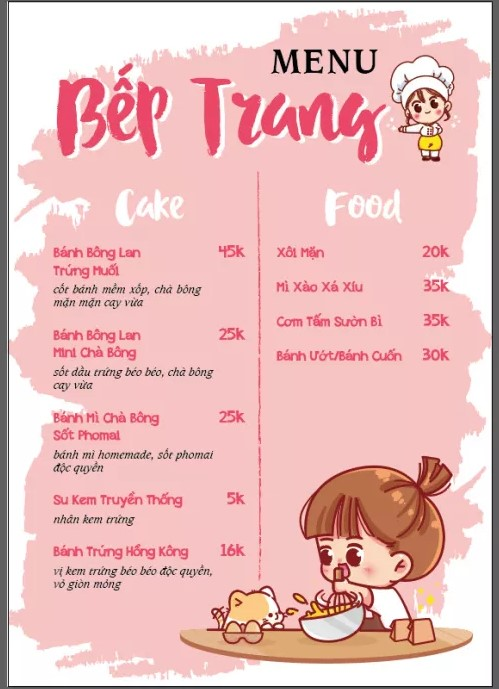gia_tien: (420, 347, 451, 366), (217, 242, 247, 260), (217, 325, 246, 343), (420, 243, 450, 260), (422, 310, 450, 328), (420, 278, 450, 294), (218, 408, 245, 425), (219, 542, 244, 558), (225, 491, 246, 509)
menu: (50, 239, 253, 312), (51, 404, 252, 476), (51, 319, 249, 390), (49, 539, 248, 591), (50, 484, 251, 528), (271, 342, 452, 367), (276, 307, 450, 331), (274, 240, 452, 263), (269, 277, 450, 297)
ten_mon: (53, 488, 185, 511), (51, 542, 190, 561), (273, 345, 402, 363), (277, 311, 384, 331), (51, 410, 160, 428), (51, 325, 141, 345), (51, 343, 137, 363), (46, 243, 143, 260), (274, 278, 364, 296), (51, 262, 120, 279), (51, 427, 120, 444), (275, 243, 326, 261)
